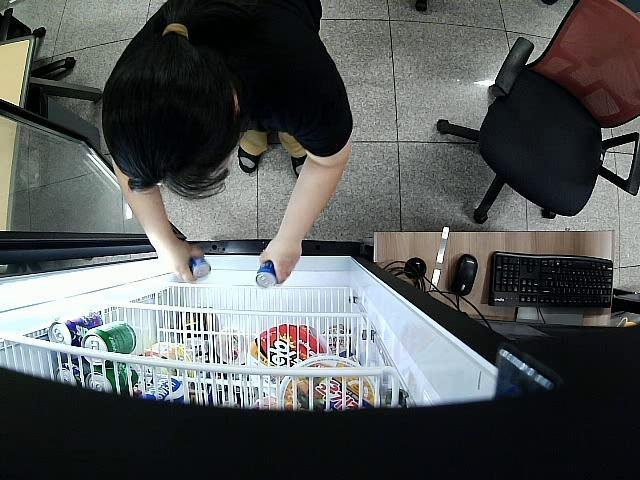15_letsbe: (256, 260, 278, 288), (190, 258, 212, 278)
